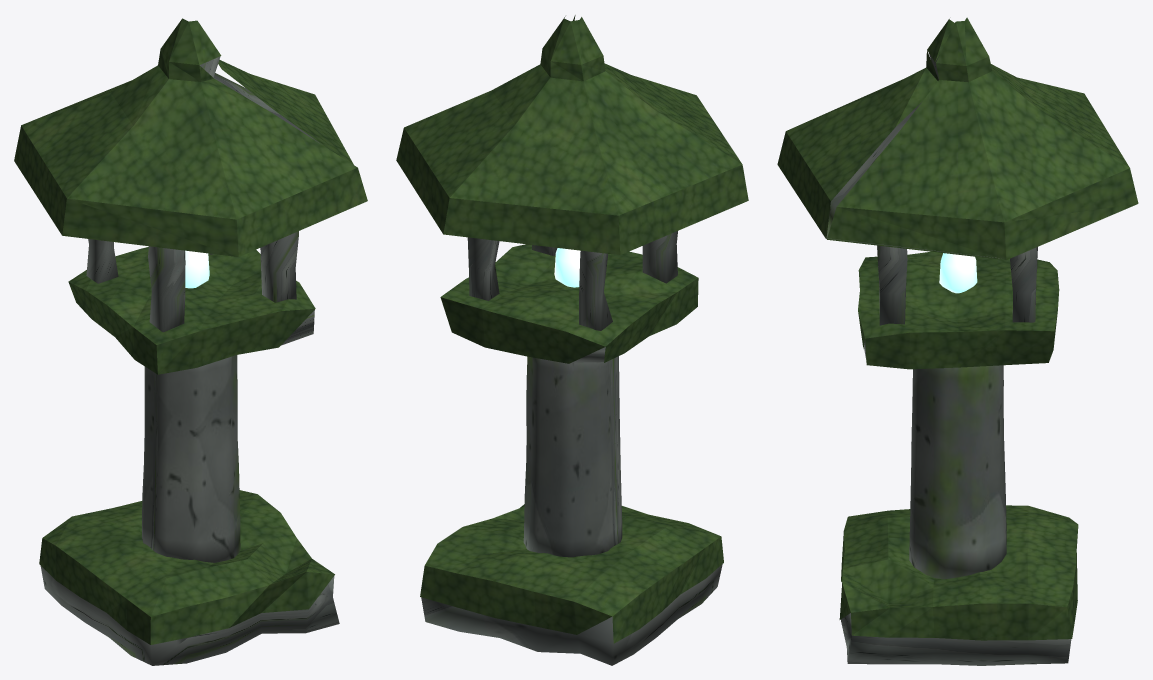
Rendered from ruin_stone_lantern.glb.
The picture shows the model from 3 angles, left to right: view 1: azimuth 30°, elevation 25°; view 2: azimuth 150°, elevation 25°; view 3: azimuth 270°, elevation 25°; orthographic projection.
Parts seen in each view (by area): view 1: ruin_stone_lantern__moss, ruin_stone_lantern__stone_block, ruin_stone_lantern__glow_core; view 2: ruin_stone_lantern__moss, ruin_stone_lantern__stone_block, ruin_stone_lantern__glow_core; view 3: ruin_stone_lantern__moss, ruin_stone_lantern__stone_block, ruin_stone_lantern__glow_core.
Boxes of the visible parts, x1=… form: ruin_stone_lantern__moss: x1=14, y1=18, x2=367, y2=644; ruin_stone_lantern__stone_block: x1=40, y1=56, x2=339, y2=665; ruin_stone_lantern__glow_core: x1=185, y1=250, x2=209, y2=288; ruin_stone_lantern__moss: x1=396, y1=15, x2=748, y2=643; ruin_stone_lantern__stone_block: x1=421, y1=231, x2=722, y2=665; ruin_stone_lantern__glow_core: x1=554, y1=248, x2=580, y2=287; ruin_stone_lantern__moss: x1=777, y1=17, x2=1138, y2=640; ruin_stone_lantern__stone_block: x1=826, y1=53, x2=1071, y2=665; ruin_stone_lantern__glow_core: x1=939, y1=253, x2=977, y2=293.
Bounding box in the file's own units: 0.926 × 1.73 × 0.9311.
3 materials, 2 textured.
